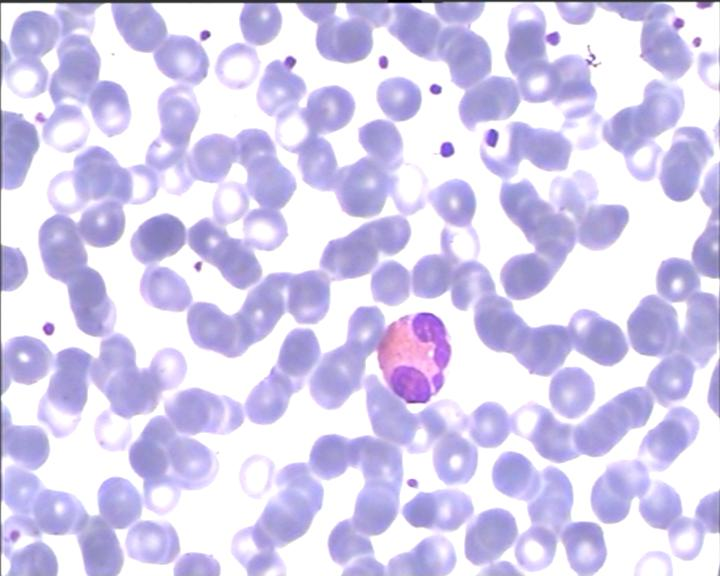eosi: (376, 307, 456, 412)
